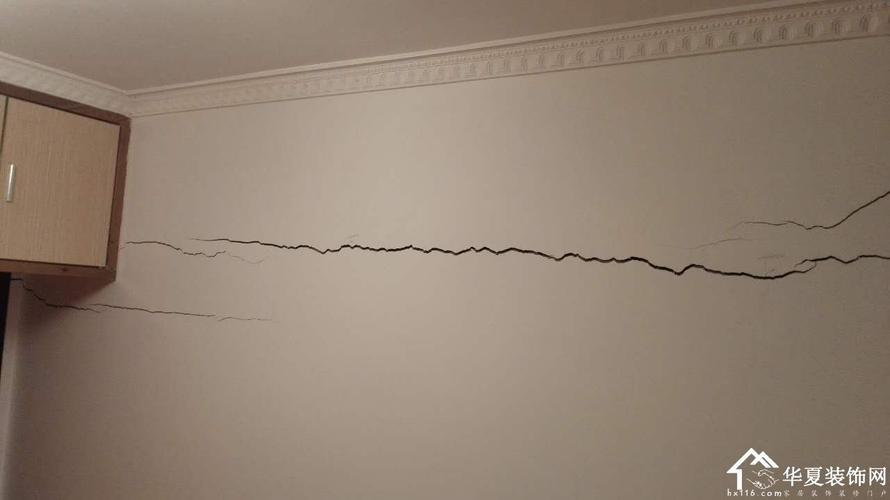Crack: (186, 236, 890, 281), (695, 189, 890, 250), (9, 277, 272, 322), (118, 241, 265, 265)
